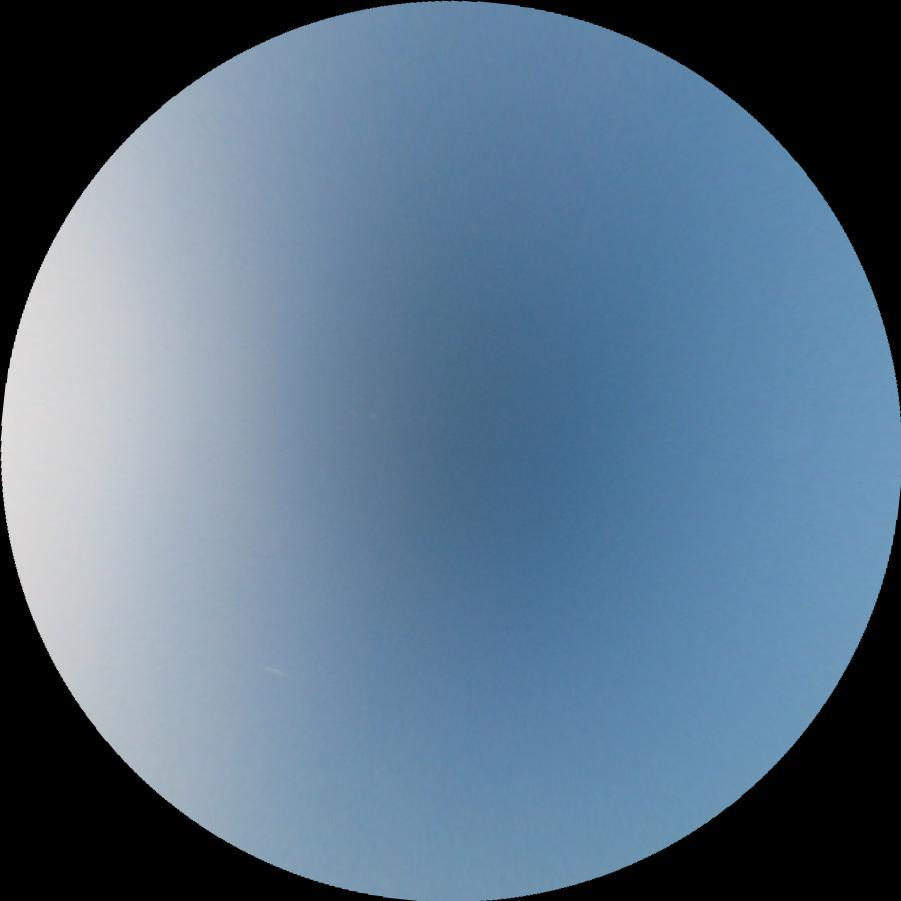contrail young: (260, 662, 292, 680)
